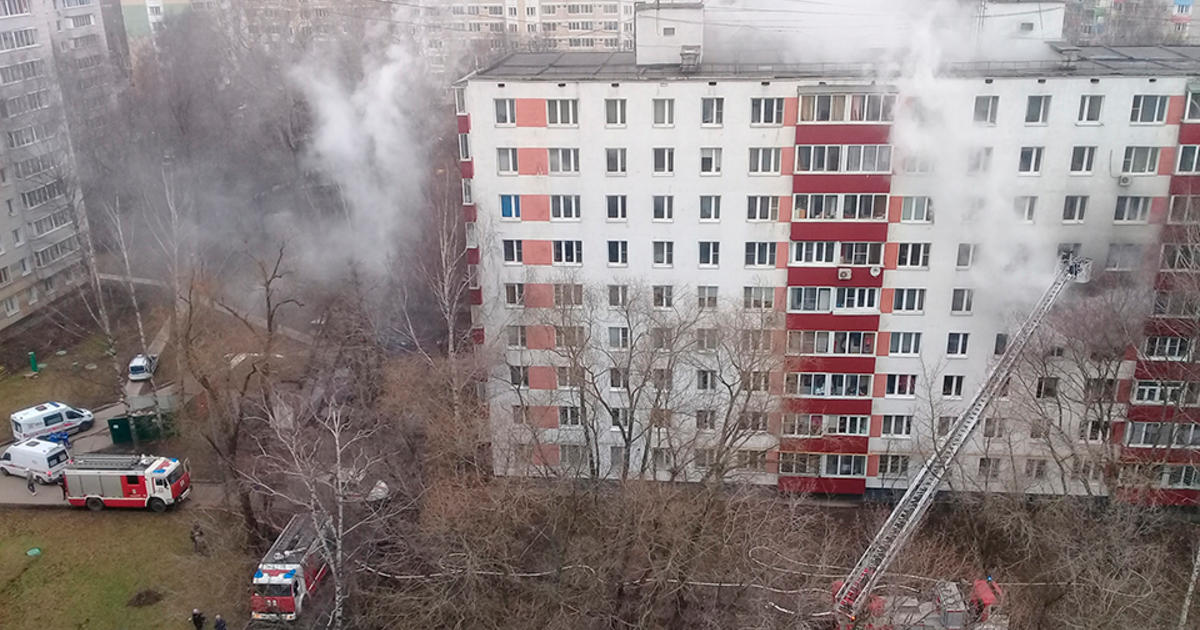fire: (219, 59, 428, 308), (909, 83, 1070, 320)
